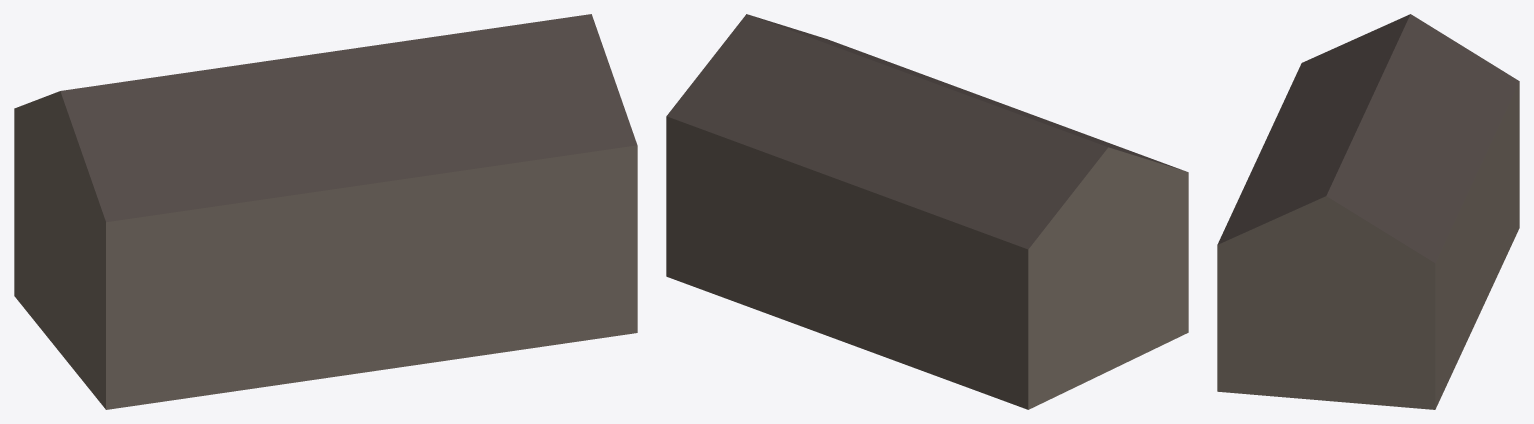
The picture shows the model from 3 angles, left to right: view 1: azimuth 30°, elevation 25°; view 2: azimuth 150°, elevation 25°; view 3: azimuth 270°, elevation 25°; orthographic projection. The views are drawn at different scales.
Visible parts, largest first — view 1: HP-w859082544; view 2: HP-w859082544; view 3: HP-w859082544.
Boxes of the visible parts, x1=… form: HP-w859082544: x1=14, y1=14, x2=637, y2=409; HP-w859082544: x1=666, y1=14, x2=1188, y2=409; HP-w859082544: x1=1217, y1=14, x2=1519, y2=409.
Bounding box in the file's own units: 17.57 × 8.38 × 11.21.
